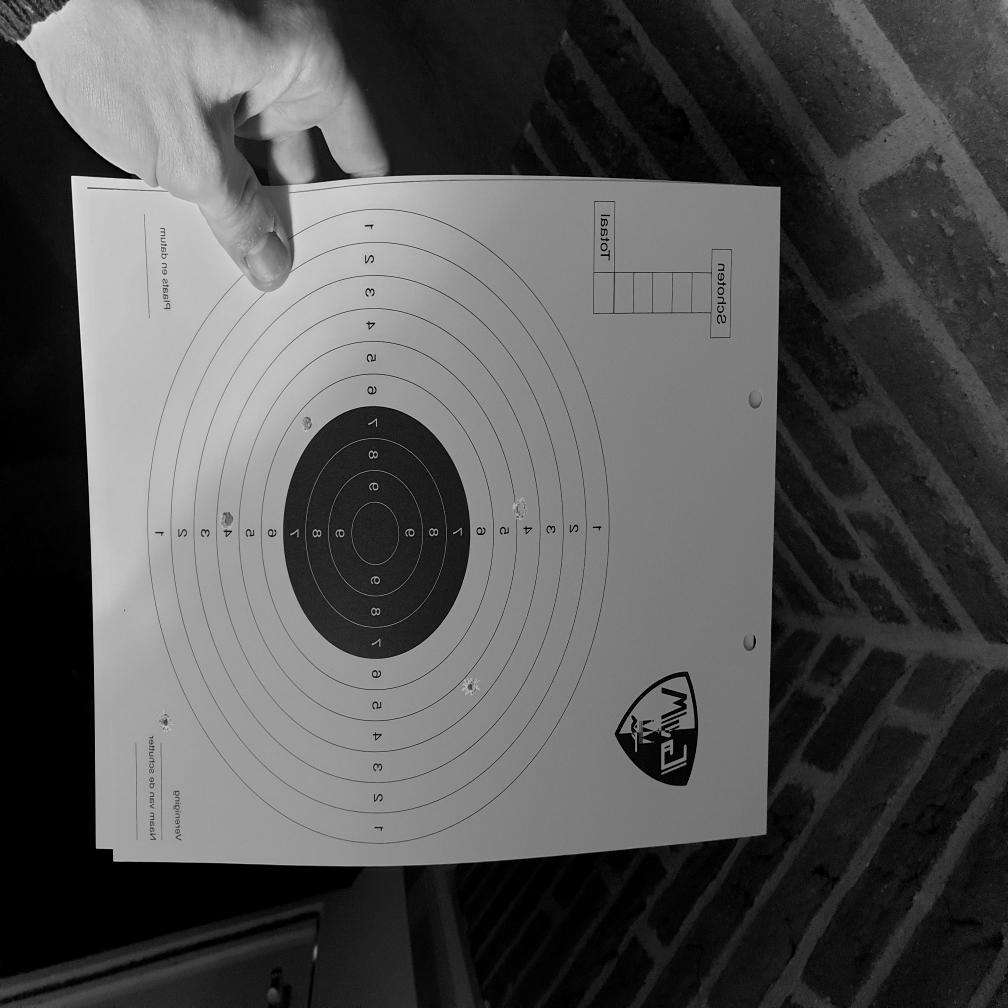0: (158, 711, 172, 732)
4: (462, 678, 481, 696), (220, 510, 234, 529)
5: (513, 498, 528, 520)
6: (301, 416, 313, 433)
Target: (146, 205, 613, 845)
black_contour: (283, 405, 471, 659)
